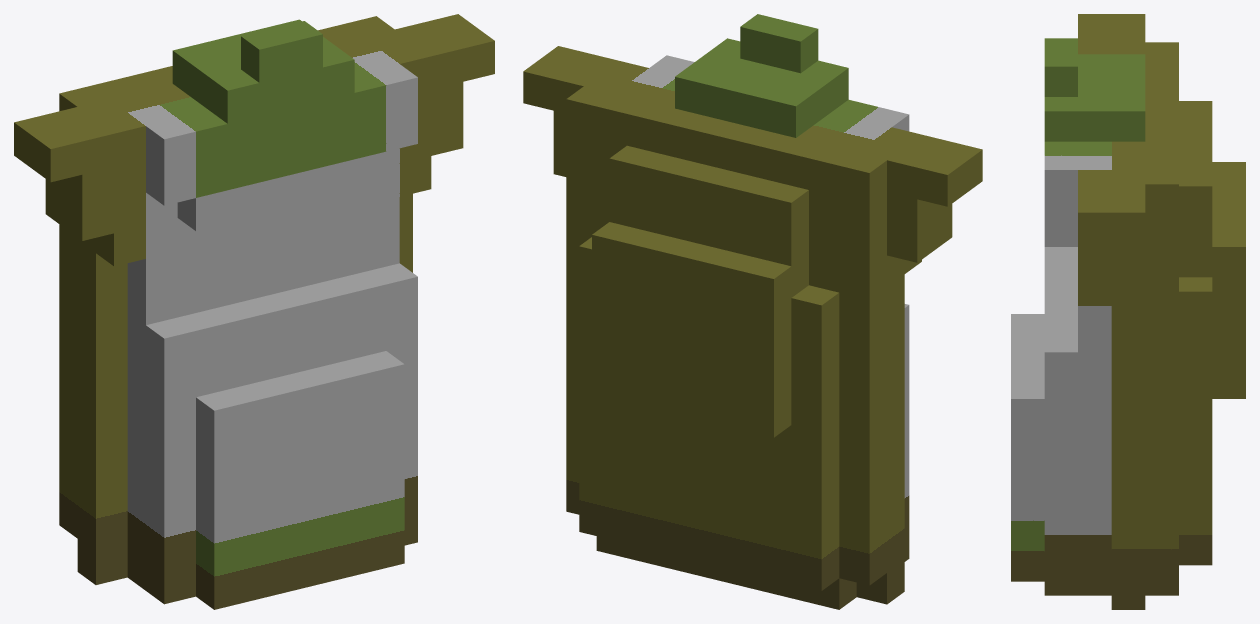
File: Goblin_Torso.fbx
3 renders of one model, left to right at view 1: azimuth 30°, elevation 25°; view 2: azimuth 150°, elevation 25°; view 3: azimuth 270°, elevation 25°, orthographic. The views are drawn at different scales.
Size of the model in its own units: 14 by 16 by 7.
Materials: 1 (1 with a texture image).
